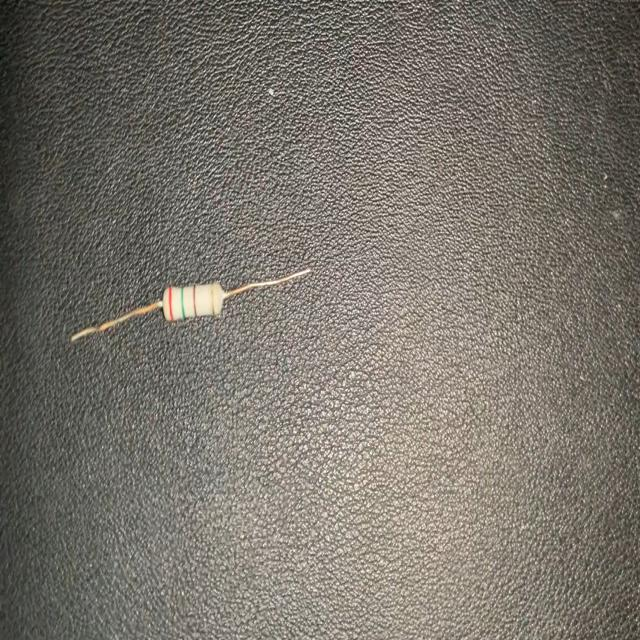resistor: (68, 268, 312, 344)
